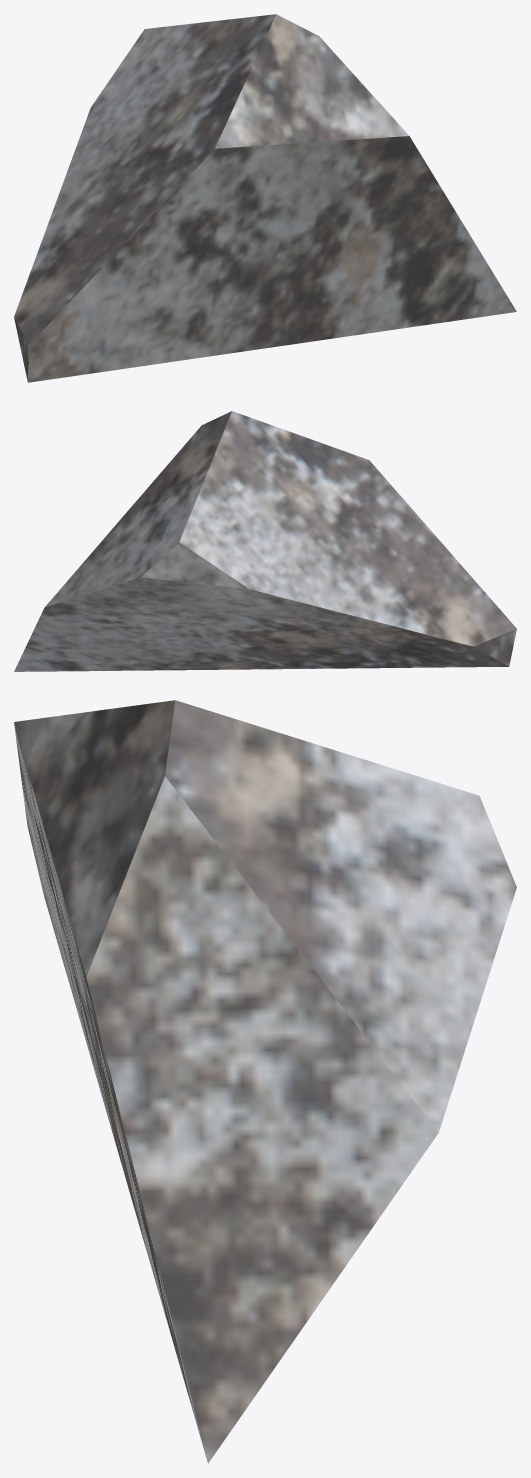
The model's file is Asteroid_Large_001_02_003_03_012.fbx.
The picture shows the model from 3 angles, top to bottom: view 1: azimuth 30°, elevation 25°; view 2: azimuth 150°, elevation 25°; view 3: azimuth 270°, elevation 25°; orthographic projection. The views are drawn at different scales.
Parts seen in each view (by area): view 1: Asteroid_Large_001_02_003_03_012; view 2: Asteroid_Large_001_02_003_03_012; view 3: Asteroid_Large_001_02_003_03_012.
Part boxes in pixels (box(x1,y1,x2,y2)): Asteroid_Large_001_02_003_03_012: box(14, 14, 516, 382); Asteroid_Large_001_02_003_03_012: box(14, 411, 516, 671); Asteroid_Large_001_02_003_03_012: box(14, 700, 516, 1463).
Size of the model in its own units: 5.54 by 3.56 by 2.83.
